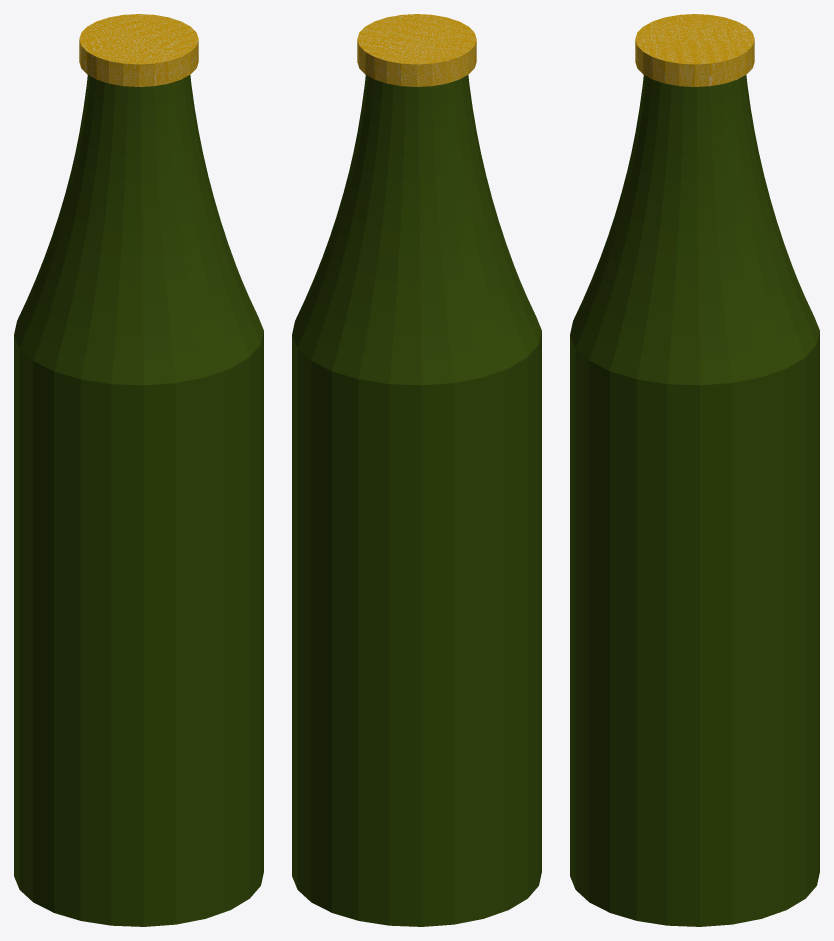
The picture shows the model from 3 angles, left to right: view 1: azimuth 30°, elevation 25°; view 2: azimuth 150°, elevation 25°; view 3: azimuth 270°, elevation 25°; orthographic projection.
Parts seen in each view (by area): view 1: mesh1.001_mesh1-geometry; view 2: mesh1.001_mesh1-geometry; view 3: mesh1.001_mesh1-geometry.
Part boxes in pixels (bbox=[...]): mesh1.001_mesh1-geometry: bbox=[14, 14, 263, 926]; mesh1.001_mesh1-geometry: bbox=[292, 14, 541, 926]; mesh1.001_mesh1-geometry: bbox=[570, 14, 819, 926].
Bounding box in the file's own units: 0.2533 × 0.9337 × 0.2533.
